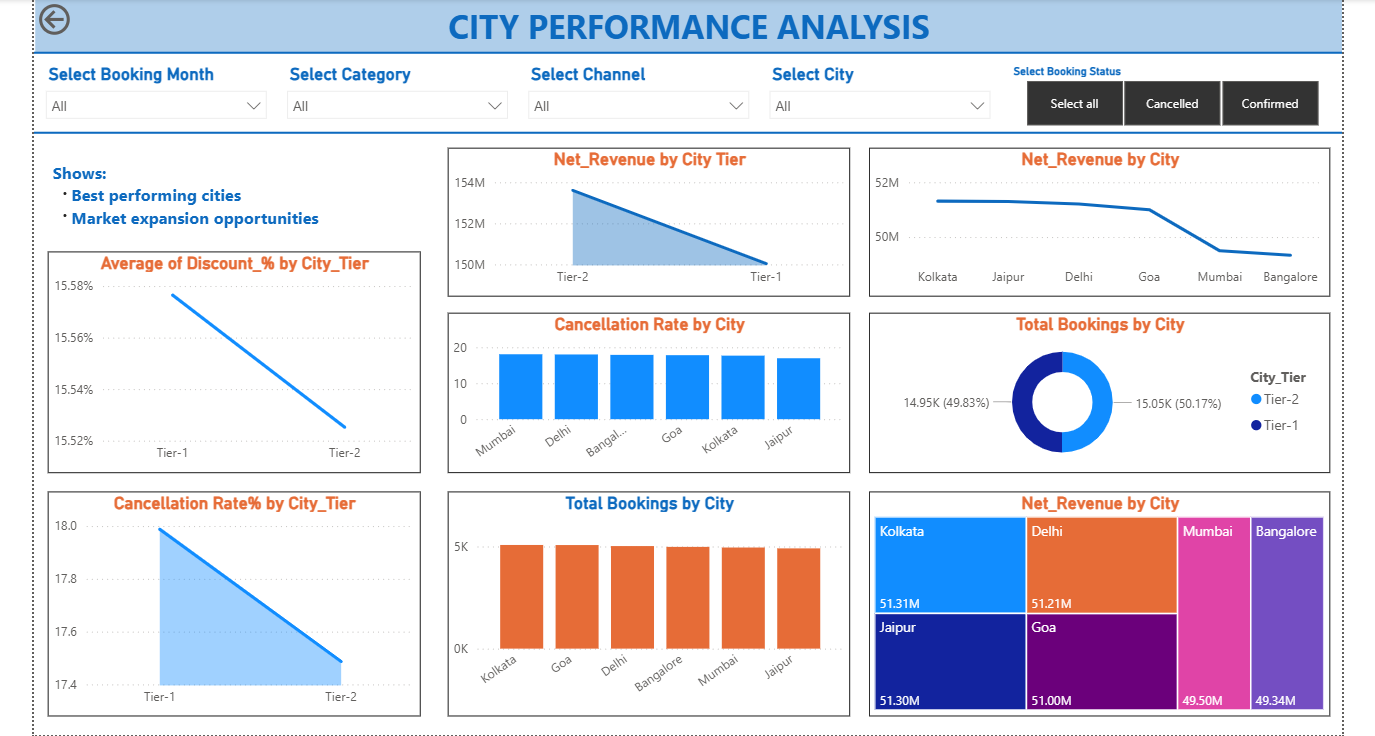

The dashboard page shown, as its layout file describes it:
{"tool":"powerbi","page":{"name":"Geographic Performance Analysis ","canvas":[1280,720],"ordinal":6},"visuals":[{"type":"textbox","box":[1.2,0,1279.1,52.6],"z":0},{"type":"lineChart","title":"Net_Revenue by City","fields":{"Y":["Sum(Bookings_Data.Net_Revenue)"],"Category":["Bookings_Data.City"]},"box":[816.9,145.5,451.2,145.5],"z":1000},{"type":"columnChart","title":"Total Bookings by City","fields":{"Y":["CountNonNull(Bookings_Data.Booking_ID)"],"Category":["Bookings_Data.City"]},"box":[404.8,481.8,393.8,220.1],"z":2000},{"type":"treemap","title":"Net_Revenue by City","fields":{"Group":["Bookings_Data.City"],"Values":["Sum(Bookings_Data.Net_Revenue)"]},"box":[816.9,481.8,451.2,220.1],"z":3000},{"type":"textbox","box":[13.5,154.1,364.4,92.9],"z":4000},{"type":"slicer","fields":{"Values":["Bookings_Data.Booking_Date.Variation.Date Hierarchy.Month"]},"box":[1.2,58.7,236,72.1],"z":5000},{"type":"slicer","fields":{"Values":["Bookings_Data.Category"]},"box":[237.2,58.7,236,72.1],"z":6000},{"type":"slicer","fields":{"Values":["Bookings_Data.Channel"]},"box":[473.2,58.7,236,72.1],"z":7000},{"type":"slicer","fields":{"Values":["Bookings_Data.City"]},"box":[709.2,58.7,236,72.1],"z":8000},{"type":"slicer","fields":{"Values":["Bookings_Data.Booking_Status"]},"box":[945.2,58.7,335.1,72.1],"z":9000},{"type":"shape","box":[0,46.5,1280.3,12.2],"z":10000},{"type":"shape","box":[0,124.7,1280.3,12.2],"z":11000},{"type":"areaChart","title":"Net_Revenue by City Tier","fields":{"Category":["Bookings_Data.City_Tier"],"Y":["Sum(Bookings_Data.Net_Revenue)"]},"box":[404.8,145.5,393.8,145.5],"z":12000},{"type":"donutChart","title":"Total Bookings by City","fields":{"Category":["Bookings_Data.City_Tier"],"Y":["CountNonNull(Bookings_Data.Booking_ID)"]},"box":[816.9,306.9,451.2,156.5],"z":13000},{"type":"actionButton","box":[0,0,100,40],"z":14000},{"type":"columnChart","fields":{"Y":["Bookings_Data.Cancellation Rate"],"Category":["Bookings_Data.City"]},"box":[404.8,306.9,393.8,156.5],"z":15000},{"type":"areaChart","title":"Cancellation Rate% by City_Tier","fields":{"Category":["Bookings_Data.City_Tier"],"Y":["Bookings_Data.Cancellation Rate"]},"box":[13.5,481.8,364.4,220.1],"z":16000},{"type":"lineChart","fields":{"Category":["Bookings_Data.City_Tier"],"Y":["Avg(Bookings_Data.Discount_%)"]},"box":[13.5,247,364.4,216.4],"z":17000}]}

Visuals, with their boxes in screenshot pixels (x1, y1, x2, y2):
textbox: <region>41, 0, 1333, 53</region>
"Net_Revenue by City" lineChart: <region>865, 147, 1321, 294</region>
"Total Bookings by City" columnChart: <region>448, 487, 846, 709</region>
"Net_Revenue by City" treemap: <region>865, 487, 1321, 709</region>
textbox: <region>53, 156, 421, 250</region>
slicer - Bookings_Data.Booking_Date.Variation.Date Hierarchy.Month: <region>41, 59, 279, 132</region>
slicer - Bookings_Data.Category: <region>279, 59, 517, 132</region>
slicer - Bookings_Data.Channel: <region>517, 59, 756, 132</region>
slicer - Bookings_Data.City: <region>756, 59, 994, 132</region>
slicer - Bookings_Data.Booking_Status: <region>994, 59, 1333, 132</region>
shape: <region>39, 47, 1333, 59</region>
shape: <region>39, 126, 1333, 138</region>
"Net_Revenue by City Tier" areaChart: <region>448, 147, 846, 294</region>
"Total Bookings by City" donutChart: <region>865, 310, 1321, 468</region>
actionButton: <region>39, 0, 140, 40</region>
columnChart - Bookings_Data.Cancellation Rate x Bookings_Data.City: <region>448, 310, 846, 468</region>
"Cancellation Rate% by City_Tier" areaChart: <region>53, 487, 421, 709</region>
lineChart - Bookings_Data.City_Tier x Avg(Bookings_Data.Discount_%): <region>53, 250, 421, 468</region>
